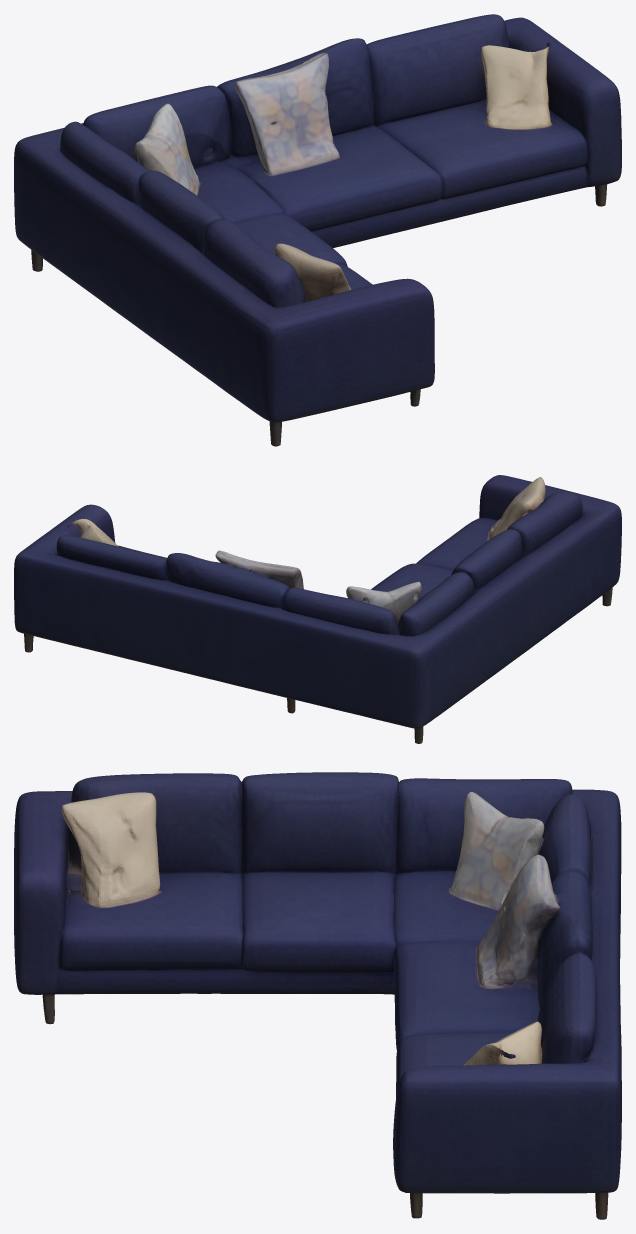
File: multidiffusion_sam3d.glb
3 renders of one model, top to bottom at view 1: azimuth 30°, elevation 25°; view 2: azimuth 150°, elevation 25°; view 3: azimuth 270°, elevation 25°, orthographic. The views are drawn at different scales.
Visible parts, largest first — view 1: world; view 2: world; view 3: world.
Boxes of the visible parts, x1,y1,x2,y2 form: world: (14,14,621,446); world: (14,475,621,743); world: (14,772,621,1219).
Size of the model in its own units: 0.9998 by 0.2999 by 0.8692.
